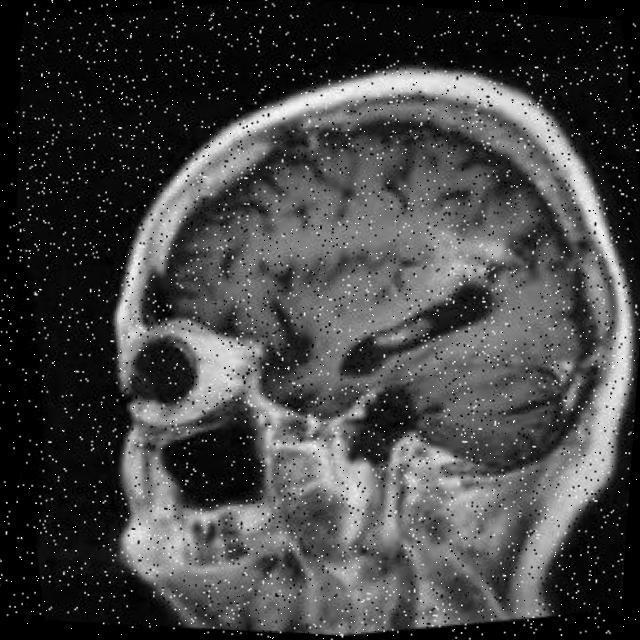LMCI: (332, 144, 608, 360)
